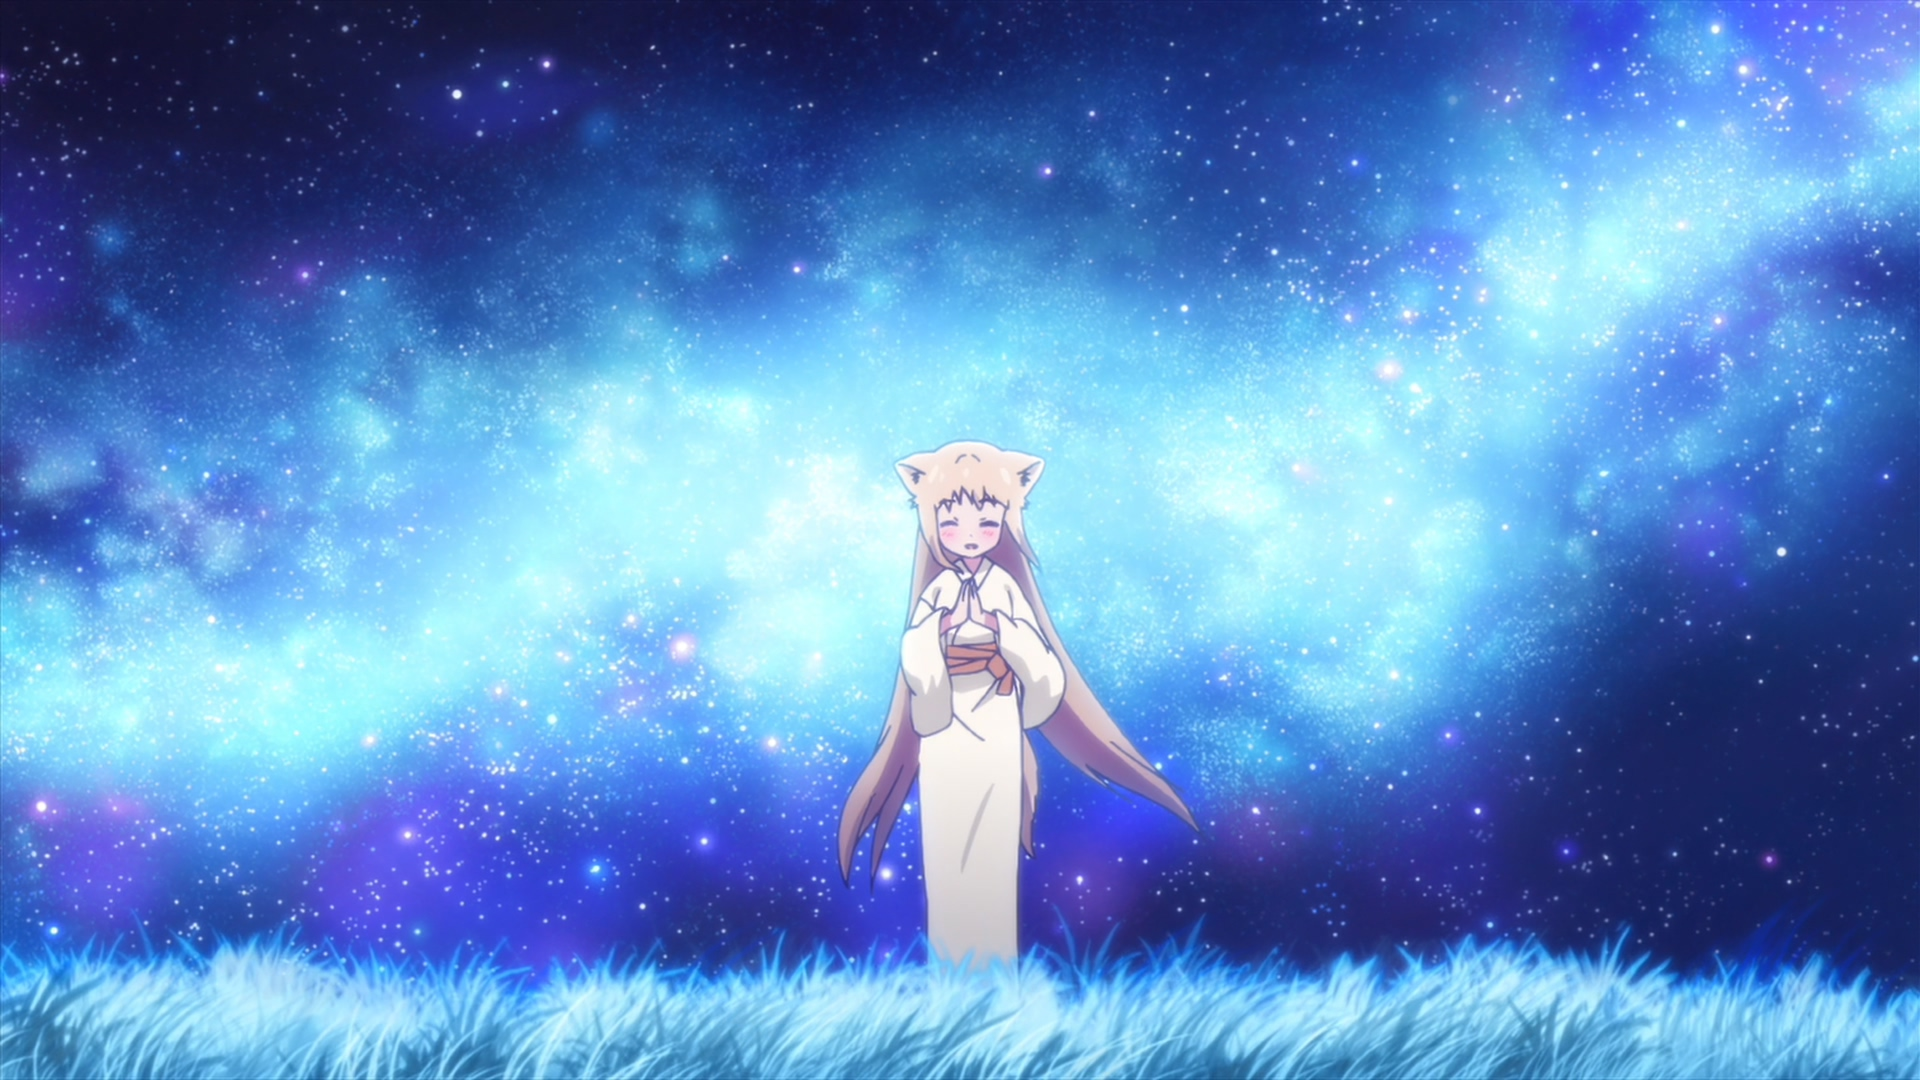柚: (837, 440, 1197, 996)
